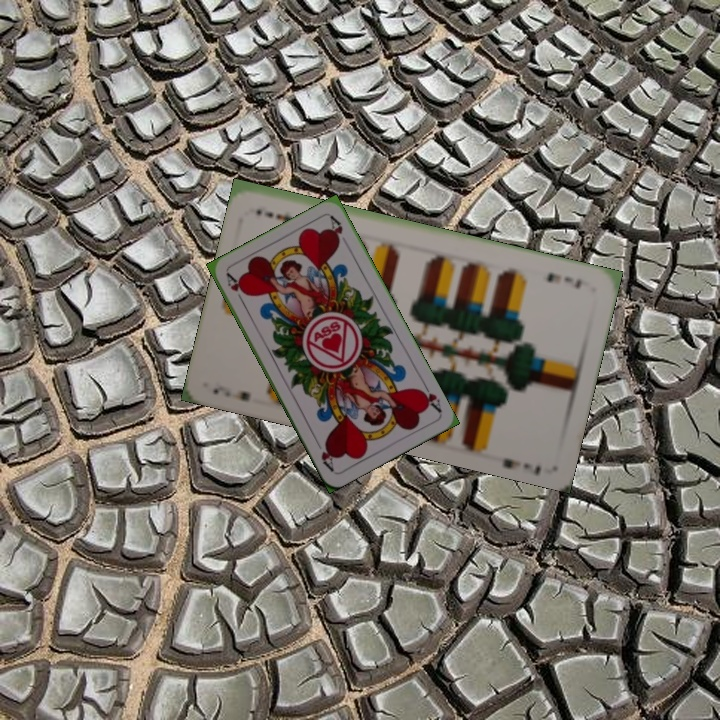E7: (208, 382, 253, 404), (542, 269, 585, 292)
HA: (414, 378, 444, 416), (222, 269, 248, 307)
